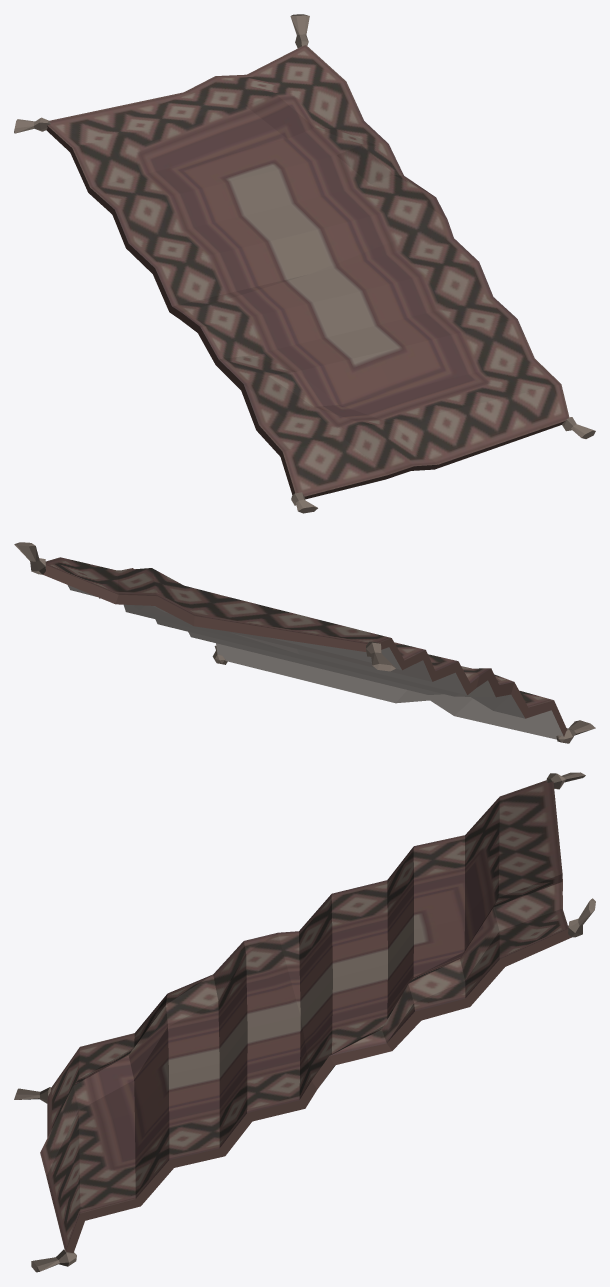
File: ancient_SM_Prop_Rug_Steps_01.gltf
The picture shows the model from 3 angles, top to bottom: view 1: azimuth 30°, elevation 25°; view 2: azimuth 150°, elevation 25°; view 3: azimuth 270°, elevation 25°; orthographic projection. The views are drawn at different scales.
Visible parts, largest first — view 1: SM_Prop_Rug_Steps_01; view 2: SM_Prop_Rug_Steps_01; view 3: SM_Prop_Rug_Steps_01.
Boxes of the visible parts, x1,y1,x2,y2 form: SM_Prop_Rug_Steps_01: (14,14,595,513); SM_Prop_Rug_Steps_01: (14,542,595,743); SM_Prop_Rug_Steps_01: (14,772,595,1272).
Bounding box in the file's own units: 1.92 × 1.37 × 2.17.
1 material, 1 textured.
